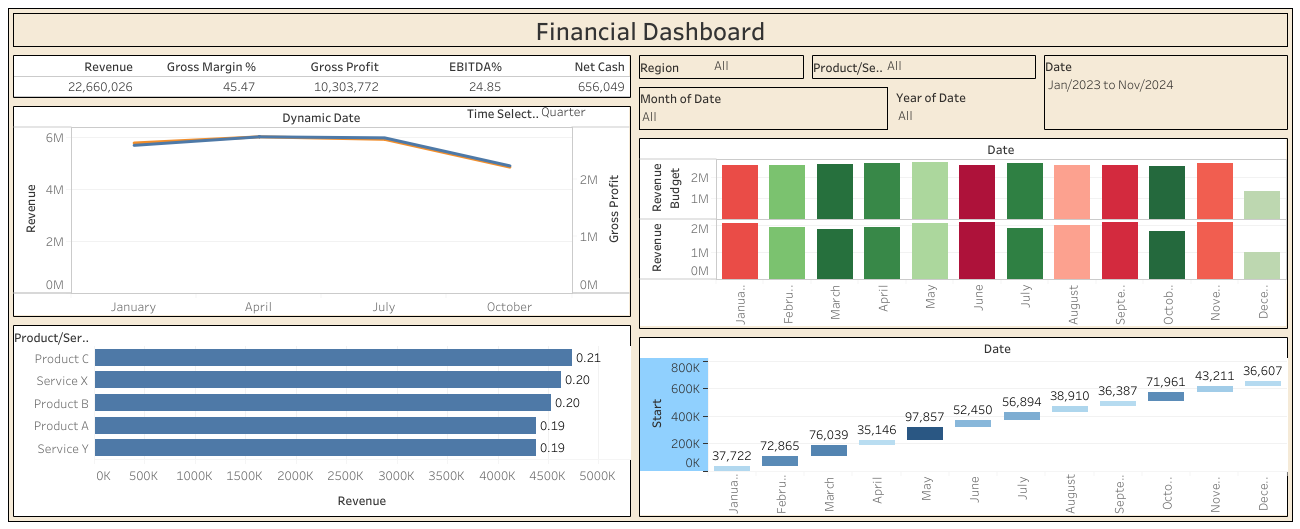

What the dashboard file says about the page in this screenshot:
{"tool":"tableau","page":{"name":"Dashboard 1","canvas":[1000,1000],"units":"permille","ordinal":0},"visuals":[{"type":"title","box":[7.8,16.6,984.4,75.4]},{"type":"worksheet","title":"KPI","mark":"Automatic","box":[7.8,91.9,480.6,99.3]},{"type":"filter","title":"Budget vs Actual Variance %","param":"[federated.0oedo0b0x1dct8147arm51vlgp5i].[none:Region:nk]","box":[488.4,91.9,178.3,99.3]},{"type":"filter","title":"KPI","param":"[federated.0oedo0b0x1dct8147arm51vlgp5i].[none:Product/Service:nk]","box":[666.7,91.9,170.6,99.3]},{"type":"filter","title":"Budget vs Actual Variance %","param":"[federated.0oedo0b0x1dct8147arm51vlgp5i].[mn:Month:ok]","box":[837.2,91.9,155,99.3]},{"type":"worksheet","title":"Revenue & Profit Trend","mark":"Automatic","rows":["Revenue","Gross Profit"],"cols":["Month"],"box":[7.8,191.2,480.6,398.9]},{"type":"worksheet","title":"Budget vs Actual Variance %","mark":"Bar","rows":["Revenue Budget","Revenue"],"cols":["Month"],"box":[488.4,191.2,503.8,435.6]},{"type":"worksheet","title":"Product/Service Performance","mark":"Automatic","rows":["Product/Service"],"cols":["Revenue"],"box":[7.8,590.1,480.6,393.4]},{"type":"worksheet","title":"Cash Flow Waterfall","mark":"GanttBar","rows":["Calculation_1371627618670637066"],"cols":["Month"],"box":[488.4,626.8,503.8,356.6]}]}

Visuals, with their boxes on the dashboard's canvas, which has no fixed pixel size, in thousandths of its width and height (x1, y1, x2, y2). These are canvas units, not pixel positions in the 1300x529 screenshot, which may show the page scaled, cropped or inside an application window:
title: select_region(8, 17, 992, 92)
"KPI" worksheet: select_region(8, 92, 488, 191)
"Budget vs Actual Variance %" filter: select_region(488, 92, 667, 191)
"KPI" filter: select_region(667, 92, 837, 191)
"Budget vs Actual Variance %" filter: select_region(837, 92, 992, 191)
"Revenue & Profit Trend" worksheet: select_region(8, 191, 488, 590)
"Budget vs Actual Variance %" worksheet (Bar marks): select_region(488, 191, 992, 627)
"Product/Service Performance" worksheet: select_region(8, 590, 488, 984)
"Cash Flow Waterfall" worksheet (GanttBar marks): select_region(488, 627, 992, 983)
